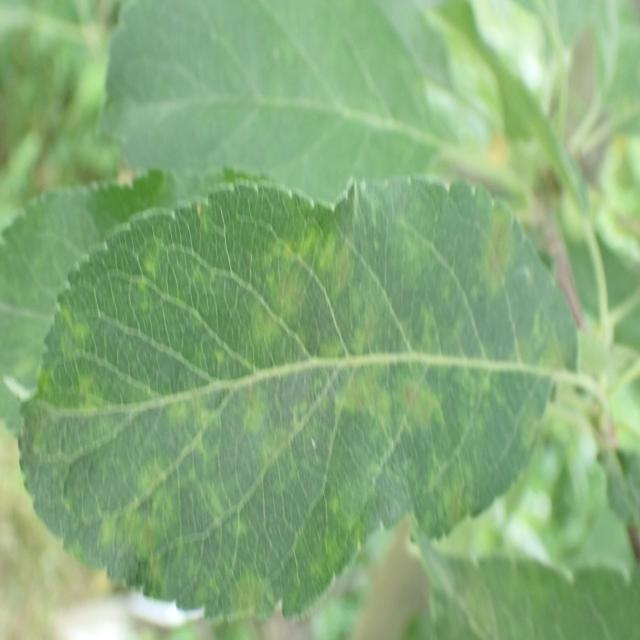scab: (21, 233, 569, 595)
